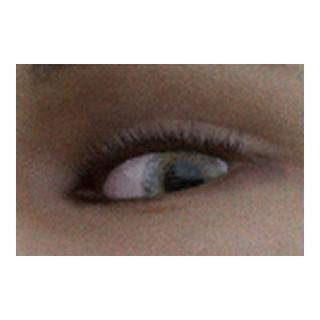pupil: (165, 165, 203, 203)
